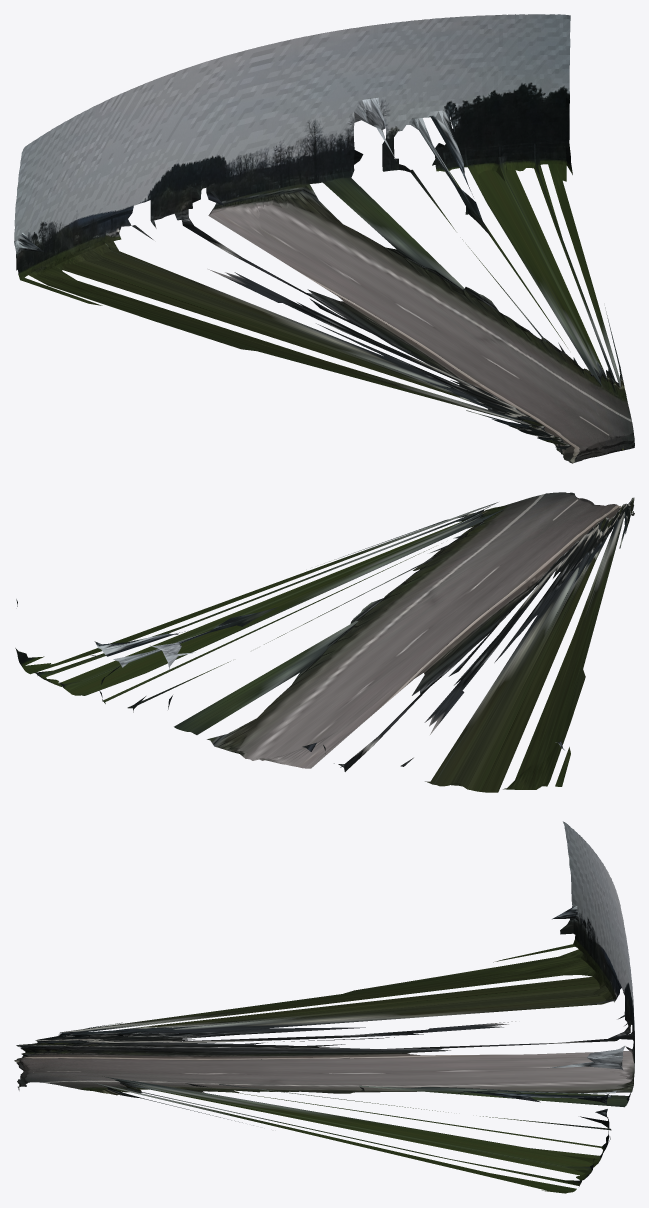
3 renders of one model, top to bottom at view 1: azimuth 30°, elevation 25°; view 2: azimuth 150°, elevation 25°; view 3: azimuth 270°, elevation 25°, orthographic. The views are drawn at different scales.
Visible parts, largest first — view 1: defaultobject; view 2: defaultobject; view 3: defaultobject.
Boxes of the visible parts, x1,y1,x2,y2 form: defaultobject: (14, 14, 634, 463); defaultobject: (15, 492, 634, 792); defaultobject: (14, 821, 634, 1193).
Size of the model in its own units: 41.14 by 11.73 by 44.54.
1 material, 1 textured.
